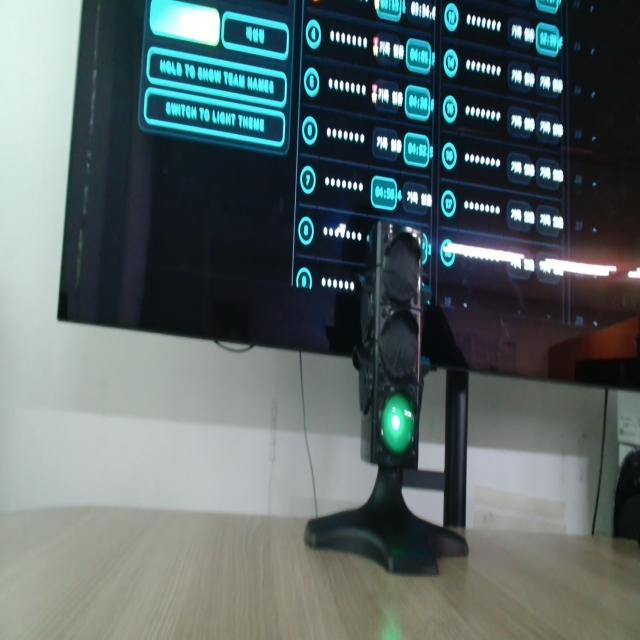green_light: (382, 394, 415, 455)
